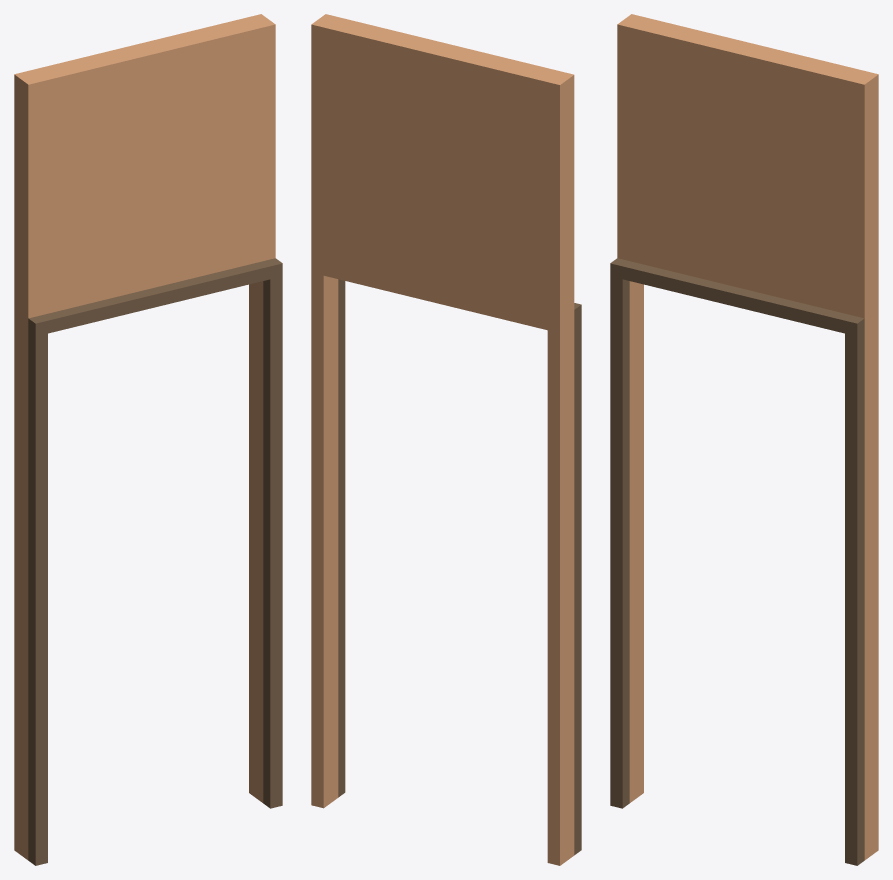
Rendered from Mesh_DoorHole_04.fbx.
3 views of the same model, side by side, from view 1: azimuth 30°, elevation 25°; view 2: azimuth 150°, elevation 25°; view 3: azimuth 330°, elevation 25° (orthographic).
Parts seen in each view (by area): view 1: Mesh_DoorHole_04; view 2: Mesh_DoorHole_04; view 3: Mesh_DoorHole_04.
Boxes of the visible parts, box(x1,y1,x2,y2) form: Mesh_DoorHole_04: box(14, 14, 282, 865); Mesh_DoorHole_04: box(311, 14, 581, 865); Mesh_DoorHole_04: box(610, 14, 878, 865).
Bounding box in the file's own units: 1 × 3 × 0.15.
